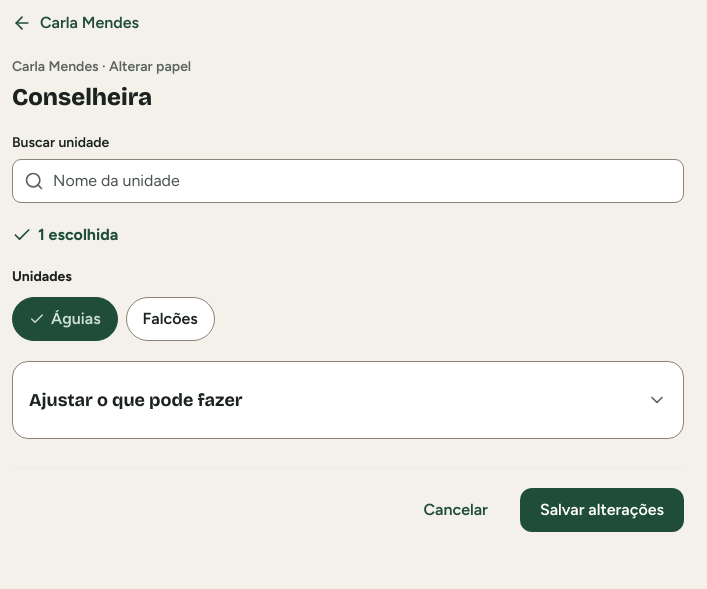
Alterar papel · tela › escopo vazio: sem PUT, mensagem junto do Salvar e foco no grupo, que aponta para ela
This screenshot has width=707, height=589.
Click the button "Águias" at (65, 319), box [12,297,118,341]
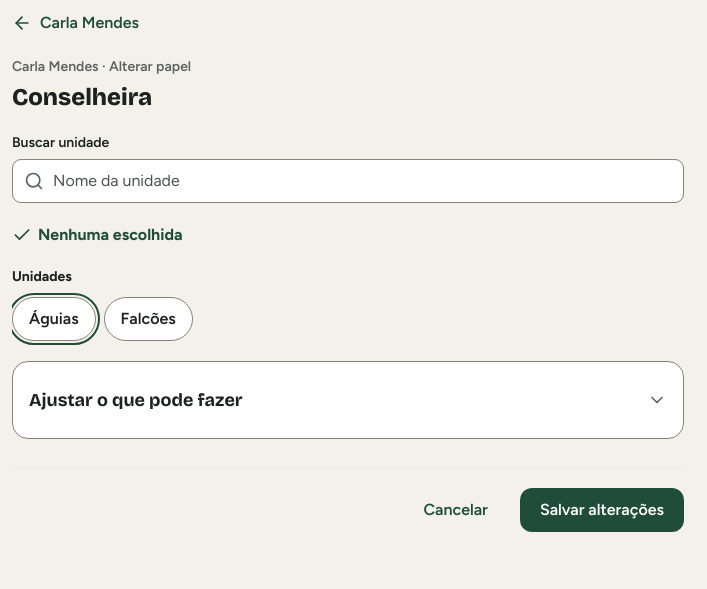
Click the button "Salvar alterações" at (602, 510), box [520,488,684,532]
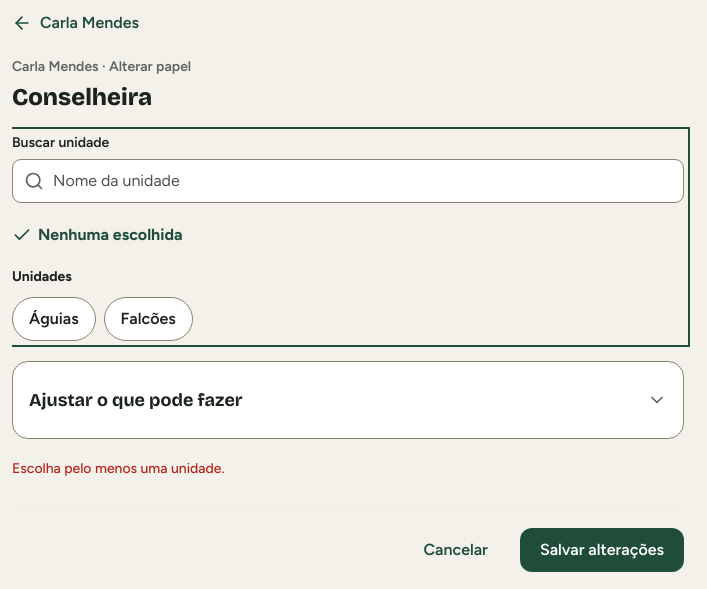
Expected: the message reads "Escolha pelo menos uma unidade.", [12,460,224,477]
